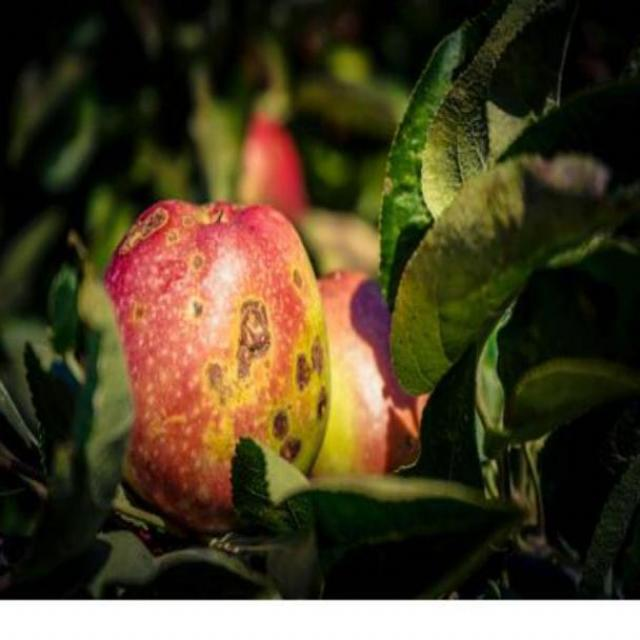SCAB: (99, 153, 352, 526)
